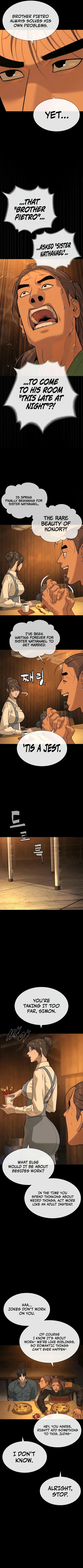bubbles: (2, 1143, 82, 1219), (2, 1292, 80, 1368), (3, 360, 80, 435), (1, 481, 83, 546), (1, 181, 59, 235), (1, 0, 62, 46), (7, 619, 61, 665), (14, 985, 70, 1029), (29, 227, 83, 270), (32, 1409, 82, 1449), (16, 729, 68, 767), (32, 95, 81, 133), (2, 1436, 49, 1475), (39, 1470, 81, 1508)
